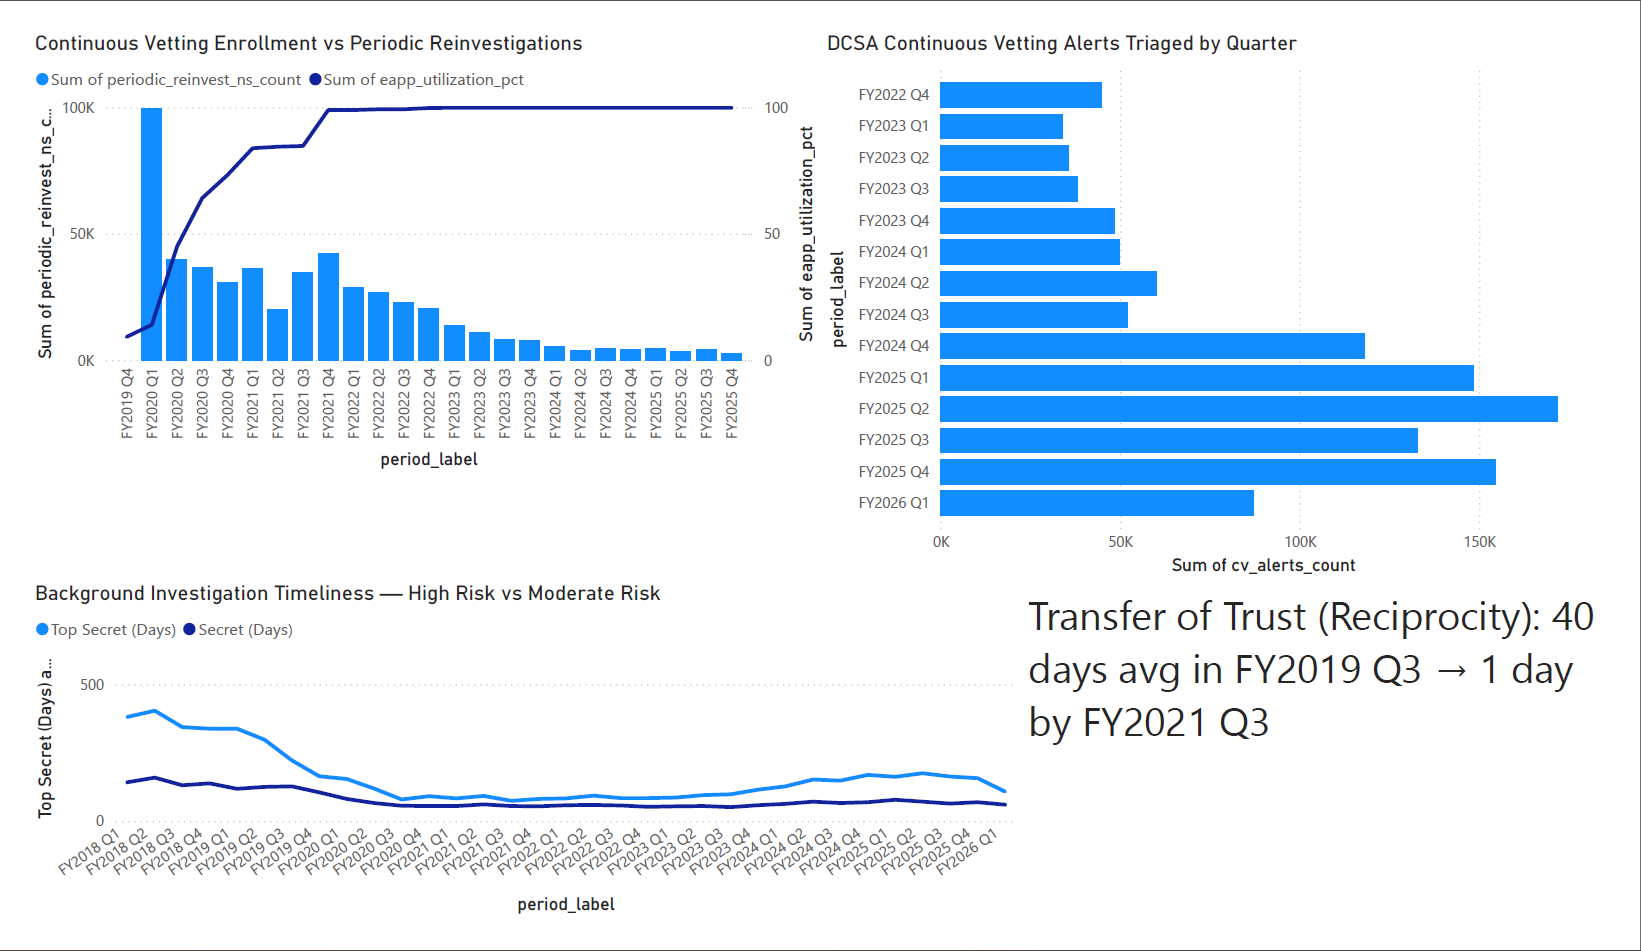

This screenshot's page, from the dashboard's own definition file:
{"tool":"powerbi","page":{"name":"TW 2.0 Reform Progress","canvas":[1280,720],"ordinal":1},"visuals":[{"type":"lineClusteredColumnComboChart","title":"Continuous Vetting Enrollment vs Periodic Reinvestigations","fields":{"Category":["dim_period.period_label"],"Y":["Sum(fact_qpr_indicators.periodic_reinvest_ns_count)"],"Y2":["Sum(fact_qpr_indicators.eapp_utilization_pct)"]},"box":[0,0,640.5,360.1],"z":0},{"type":"clusteredBarChart","title":"DCSA Continuous Vetting Alerts Triaged by Quarter","fields":{"Y":["Sum(fact_qpr_indicators.cv_alerts_count)"],"Category":["dim_period.period_label"]},"box":[640.5,0,639.5,444.9],"z":1000},{"type":"lineChart","title":"Background Investigation Timeliness — High Risk vs Moderate Risk","fields":{"Category":["dim_period.period_label"],"Y":["Sum(fact_qpr_indicators.bi_timeliness_days_ts)","Sum(fact_qpr_indicators.bi_timeliness_days_secret)"]},"box":[0,444.9,804,275.2],"z":2000},{"type":"textbox","title":"Transfer of Trust went from 40 days average in FY2019 Q3 to 1 day by FY2021 Q3","box":[804,444.9,476,275.2],"z":3000}]}

Visuals, with their boxes in screenshot pixels (x1, y1, x2, y2), scaled from the page's 1280x720 canvas onto the 1641x951 screenshot:
"Continuous Vetting Enrollment vs Periodic Reinvestigations" lineClusteredColumnComboChart: crop(0, 0, 821, 476)
"DCSA Continuous Vetting Alerts Triaged by Quarter" clusteredBarChart: crop(821, 0, 1640, 588)
"Background Investigation Timeliness — High Risk vs Moderate Risk" lineChart: crop(0, 588, 1031, 950)
"Transfer of Trust went from 40 days average in FY2019 Q3 to 1 day by FY2021 Q3" textbox: crop(1031, 588, 1640, 950)
